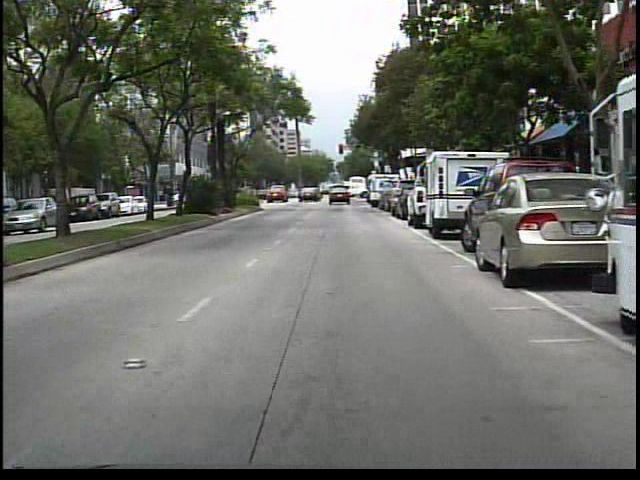person: (328, 183, 341, 203)
